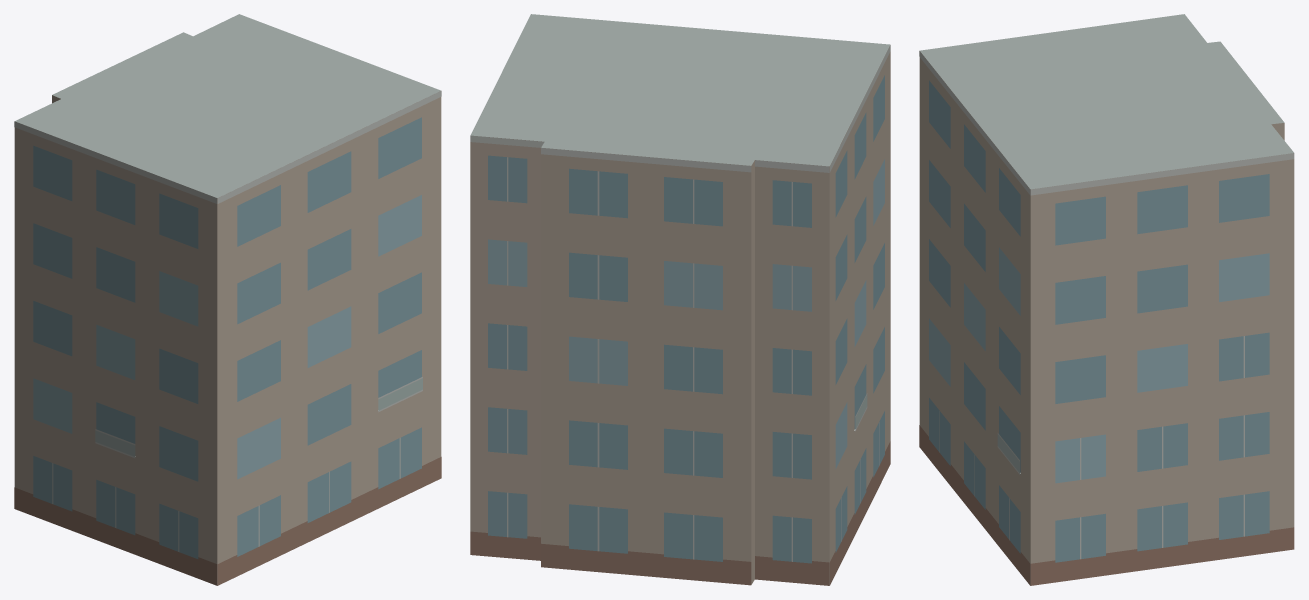
File: survey-upis-32737994.glb
3 views of the same model, side by side, from view 1: azimuth 30°, elevation 25°; view 2: azimuth 150°, elevation 25°; view 3: azimuth 270°, elevation 25° (orthographic). The views are drawn at different scales.
Visible parts, largest first — view 1: survey-upis-32737994.tmp; view 2: survey-upis-32737994.tmp; view 3: survey-upis-32737994.tmp.
Part boxes in pixels (x1=…): survey-upis-32737994.tmp: x1=14, y1=14, x2=441, y2=585; survey-upis-32737994.tmp: x1=470, y1=14, x2=890, y2=585; survey-upis-32737994.tmp: x1=919, y1=14, x2=1294, y2=585.
Bounding box in the file's own units: 14.91 × 15.7 × 13.46.
